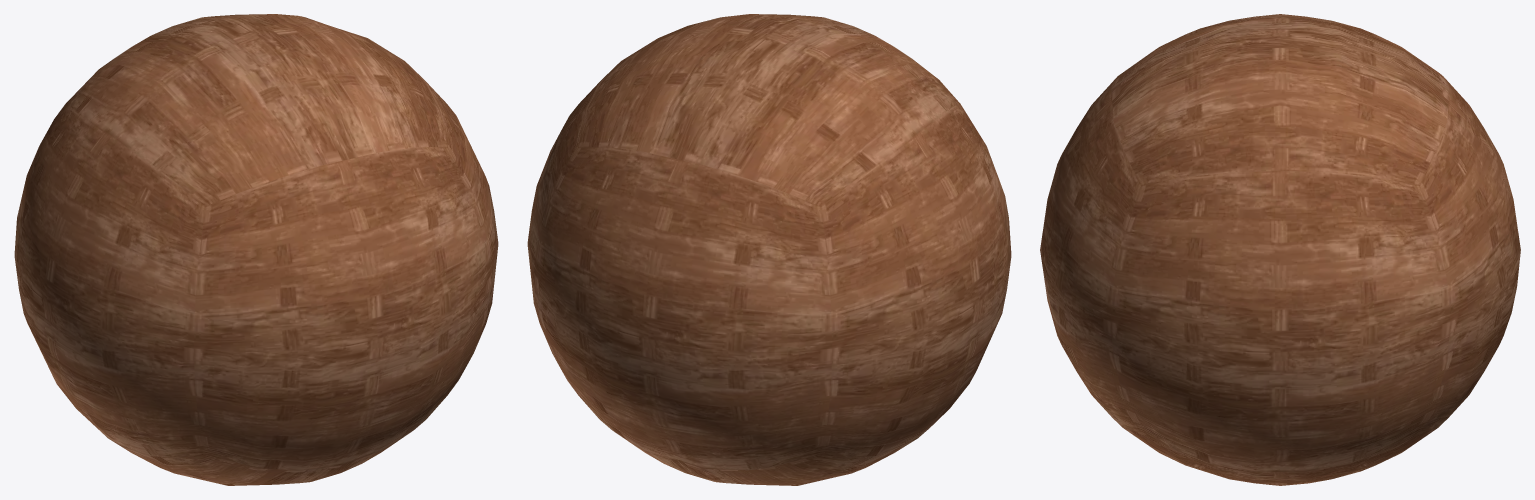
The model's file is wickerball.m.glb.
3 views of the same model, side by side, from view 1: azimuth 30°, elevation 25°; view 2: azimuth 150°, elevation 25°; view 3: azimuth 270°, elevation 25° (orthographic).
Parts seen in each view (by area): view 1: Sphere; view 2: Sphere; view 3: Sphere.
Boxes of the visible parts, bbox=[...] form: Sphere: bbox=[14, 14, 498, 485]; Sphere: bbox=[527, 14, 1011, 485]; Sphere: bbox=[1040, 14, 1520, 485].
Size of the model in its own units: 0.06 by 0.0588 by 0.06.
Materials: 1 (1 with a texture image).
